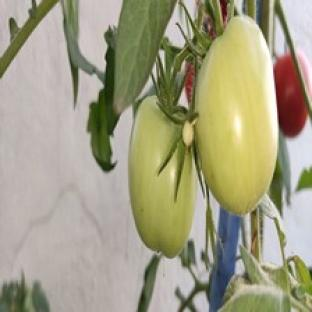Tomato: (195, 17, 278, 214), (129, 97, 196, 257), (275, 53, 307, 136), (186, 62, 194, 104)
